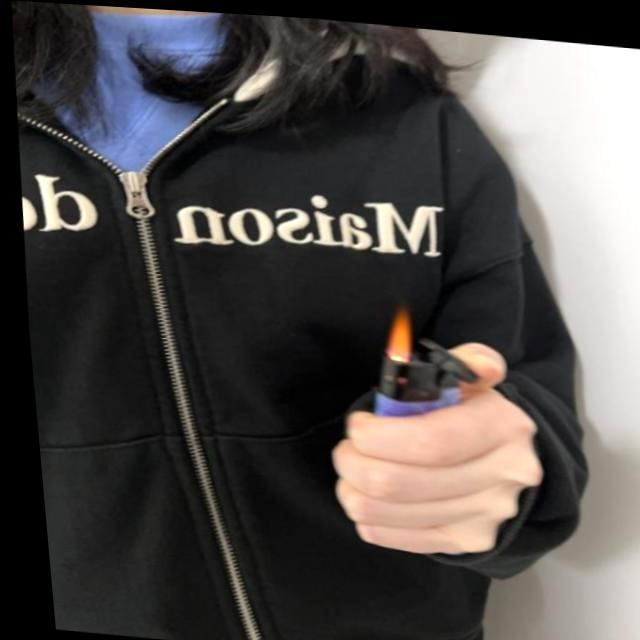fire: (376, 299, 408, 359)
